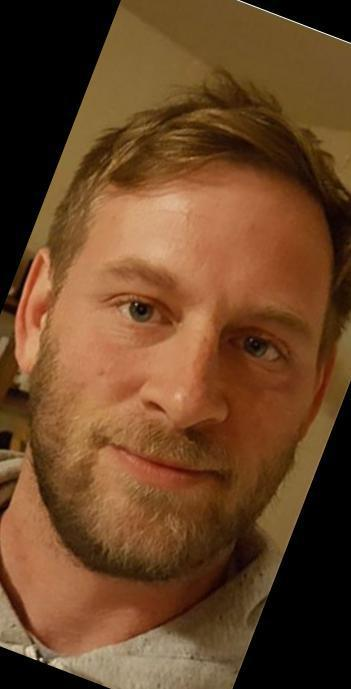Sober: (65, 195, 313, 549)
